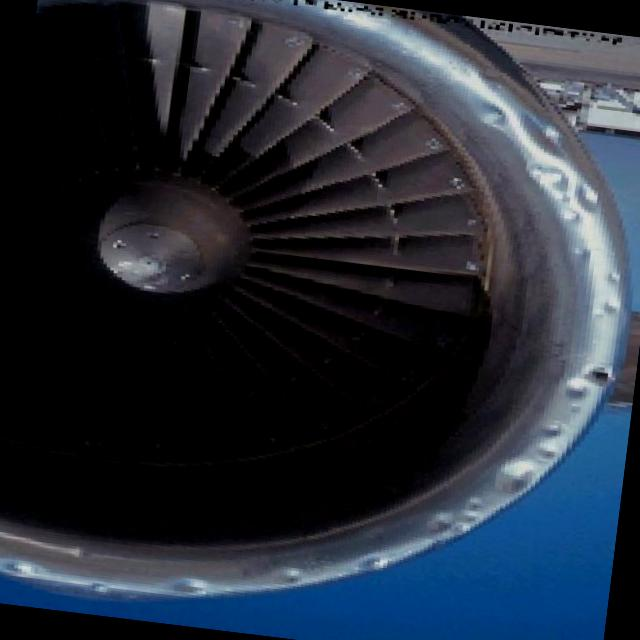dent: (441, 56, 616, 226), (490, 449, 545, 500)
